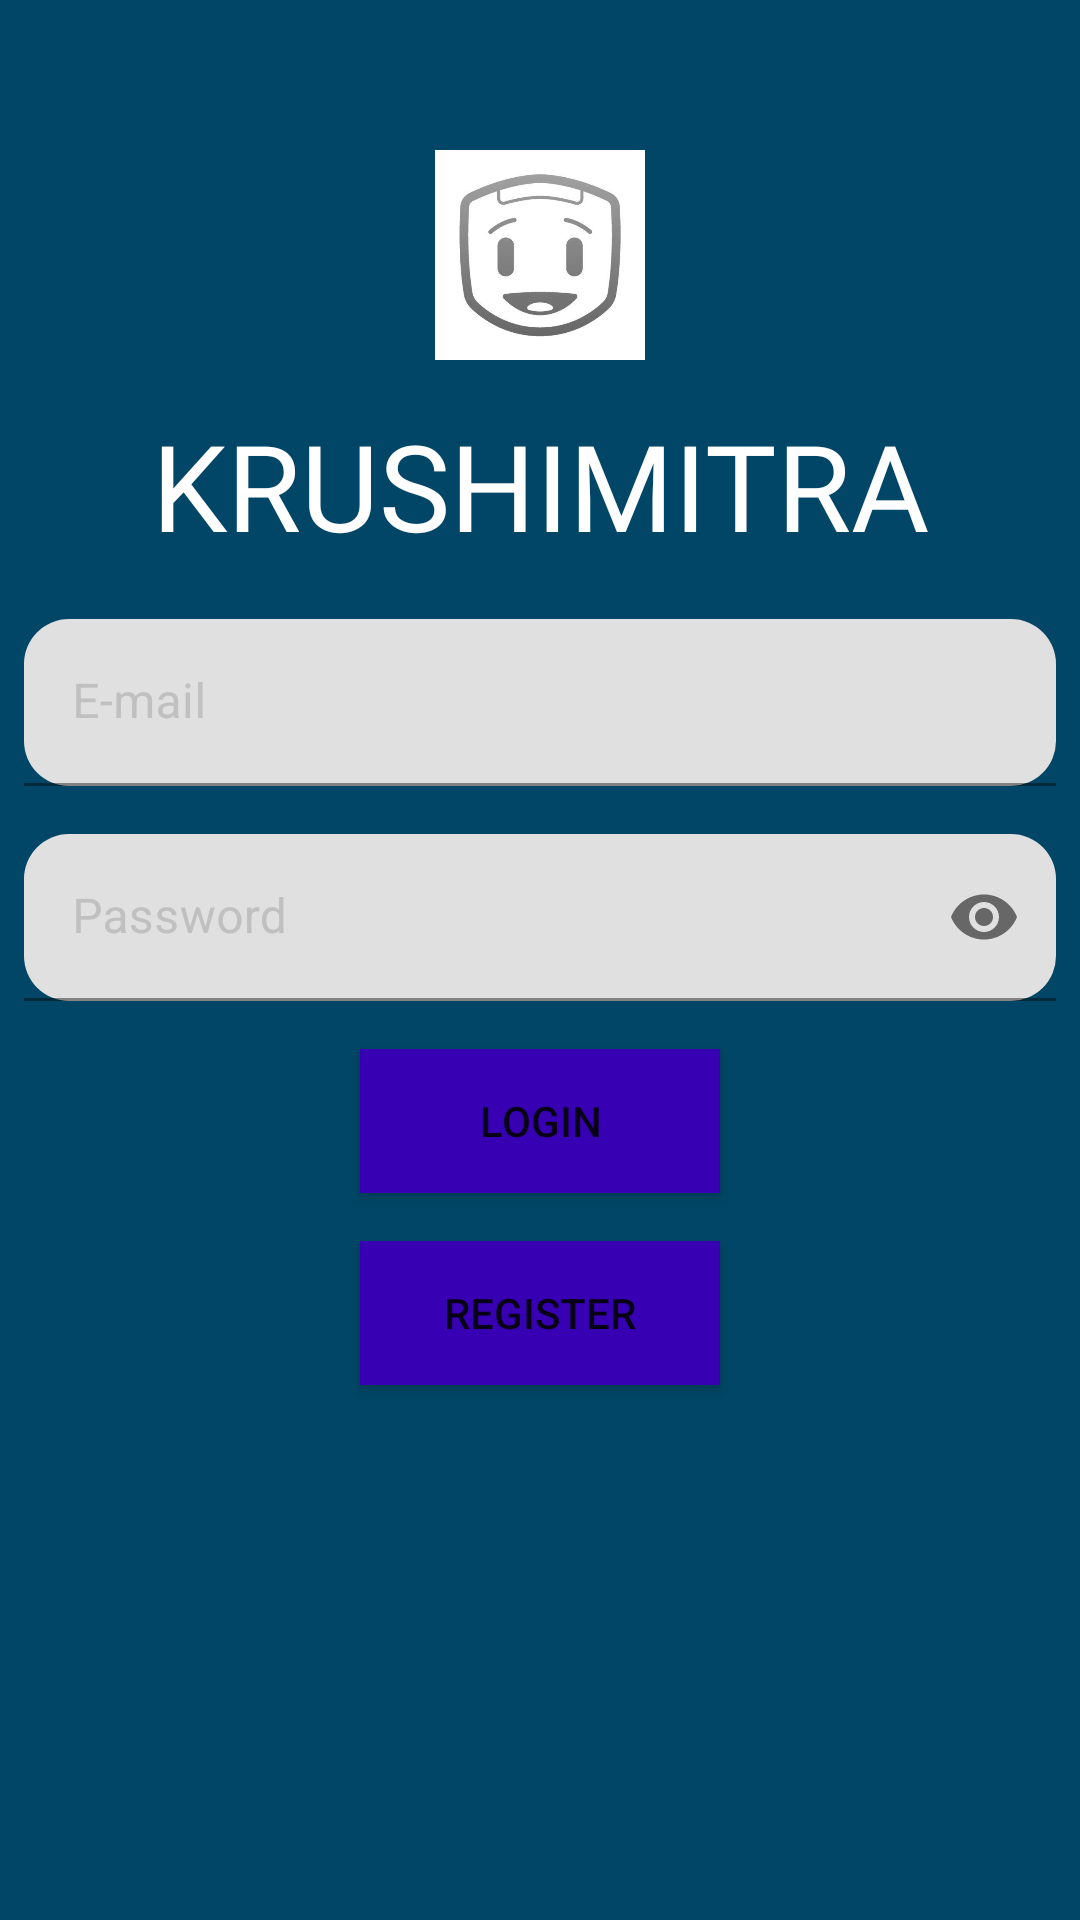

Icon click points for this 1080px x 1920px phone screenshot, format (x=x, y=y):
bot: (x=540, y=255)
